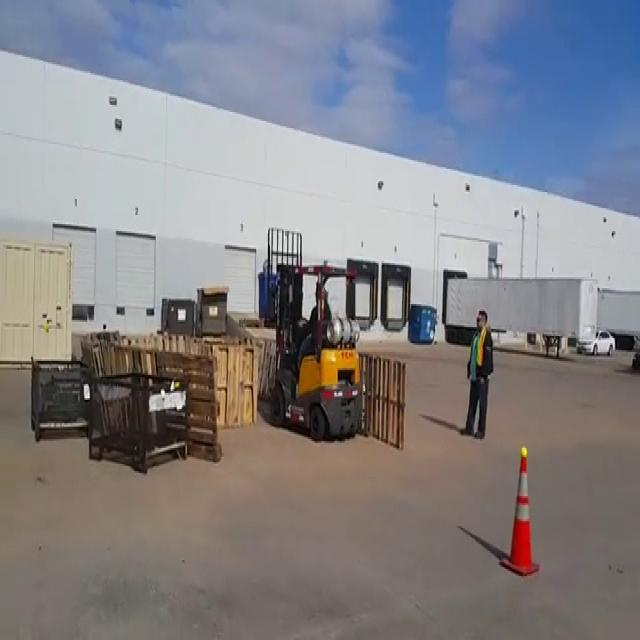Chariot elevateur: (254, 253, 370, 449)
